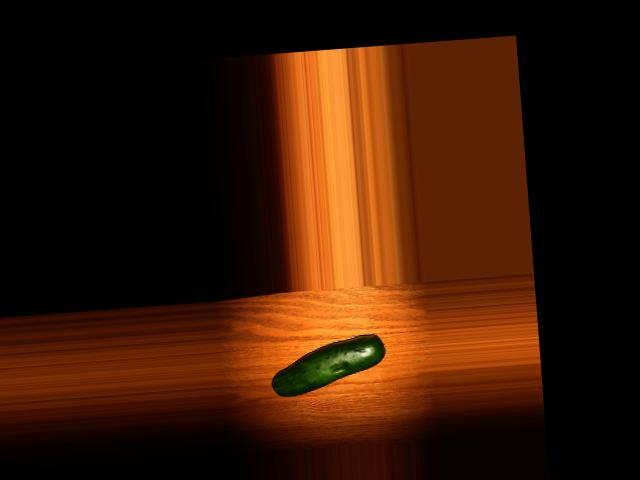cucumber: (268, 333, 386, 397)
